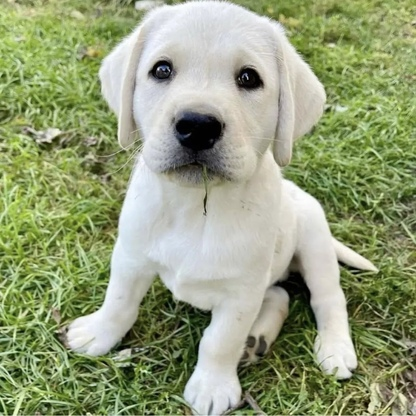labrado: (58, 1, 381, 416)
